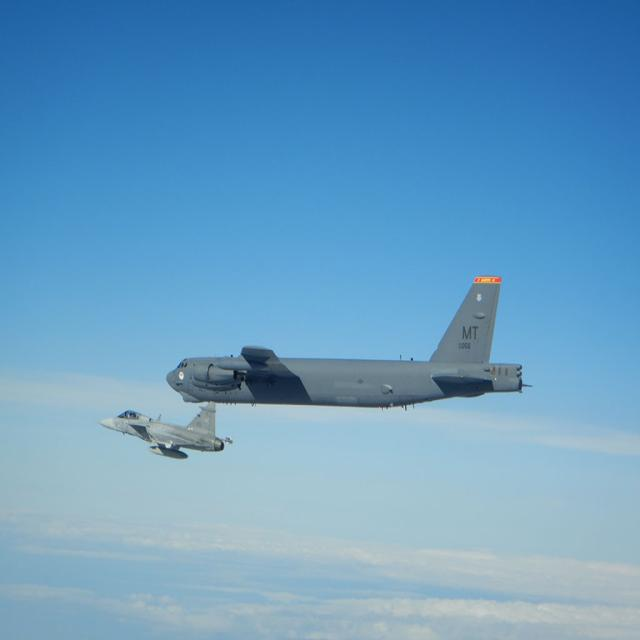MIL_Plane: (146, 275, 515, 412), (91, 401, 234, 460)
